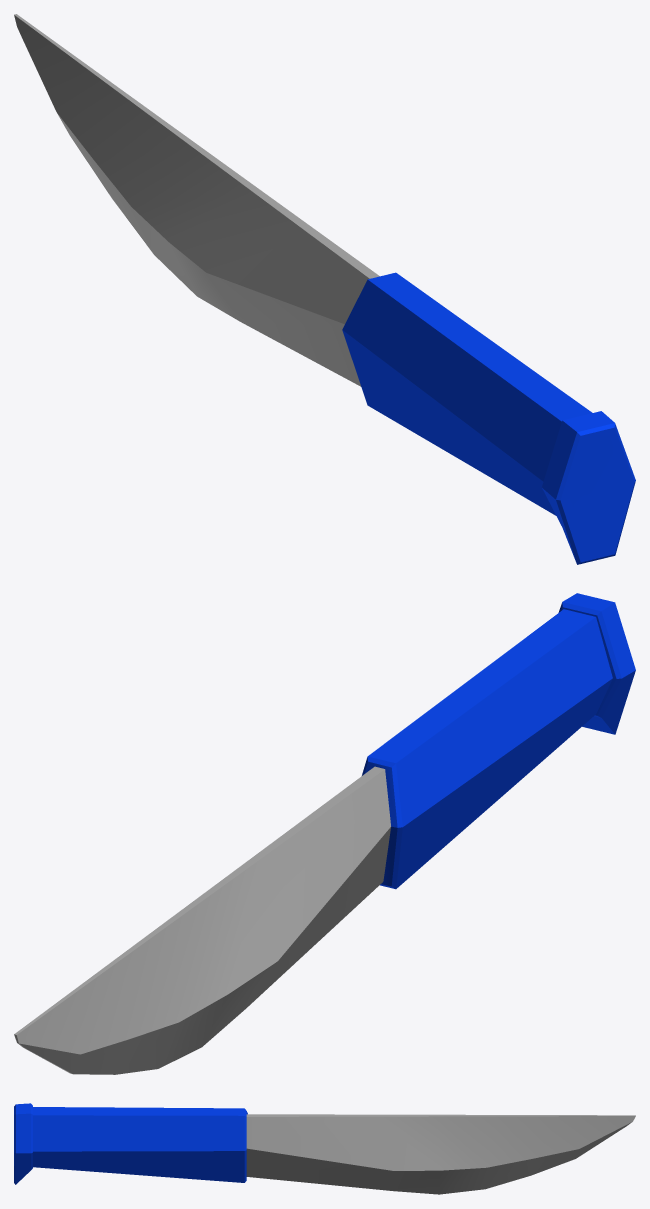
Rendered from Knifee.fbx.
3 views of the same model, one above another, from view 1: azimuth 30°, elevation 25°; view 2: azimuth 150°, elevation 25°; view 3: azimuth 270°, elevation 25° (orthographic). The views are drawn at different scales.
Parts seen in each view (by area): view 1: pCube1; view 2: pCube1; view 3: pCube1.
Part boxes in pixels (x1=…): pCube1: x1=14, y1=14, x2=635, y2=564; pCube1: x1=14, y1=593, x2=635, y2=1074; pCube1: x1=14, y1=1103, x2=635, y2=1194.
Size of the model in its own units: 0.5055 by 0.9651 by 6.37.
